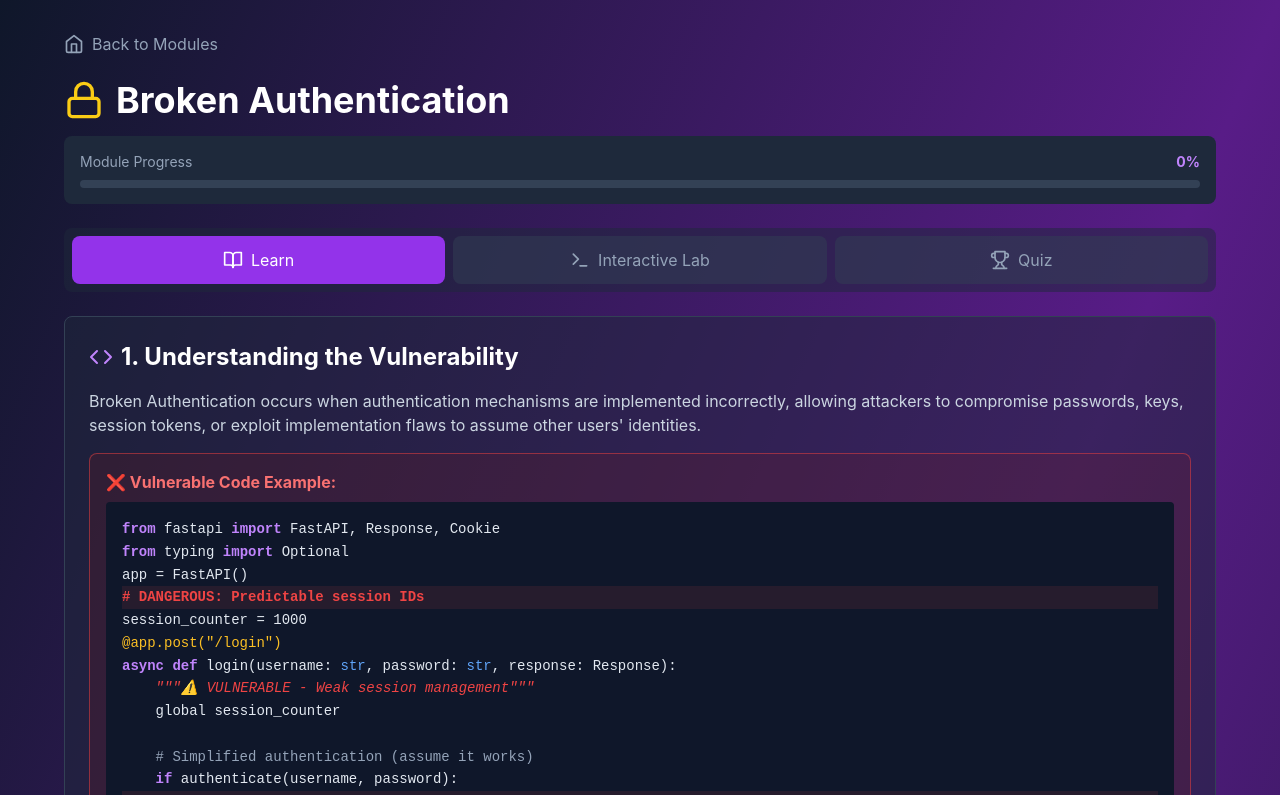
BrokenAuthModule session token lab › flags a short sequential session token as weak
The image size is (1280, 795).
Click the button "Interactive Lab": click(640, 260) [453,236,827,284]
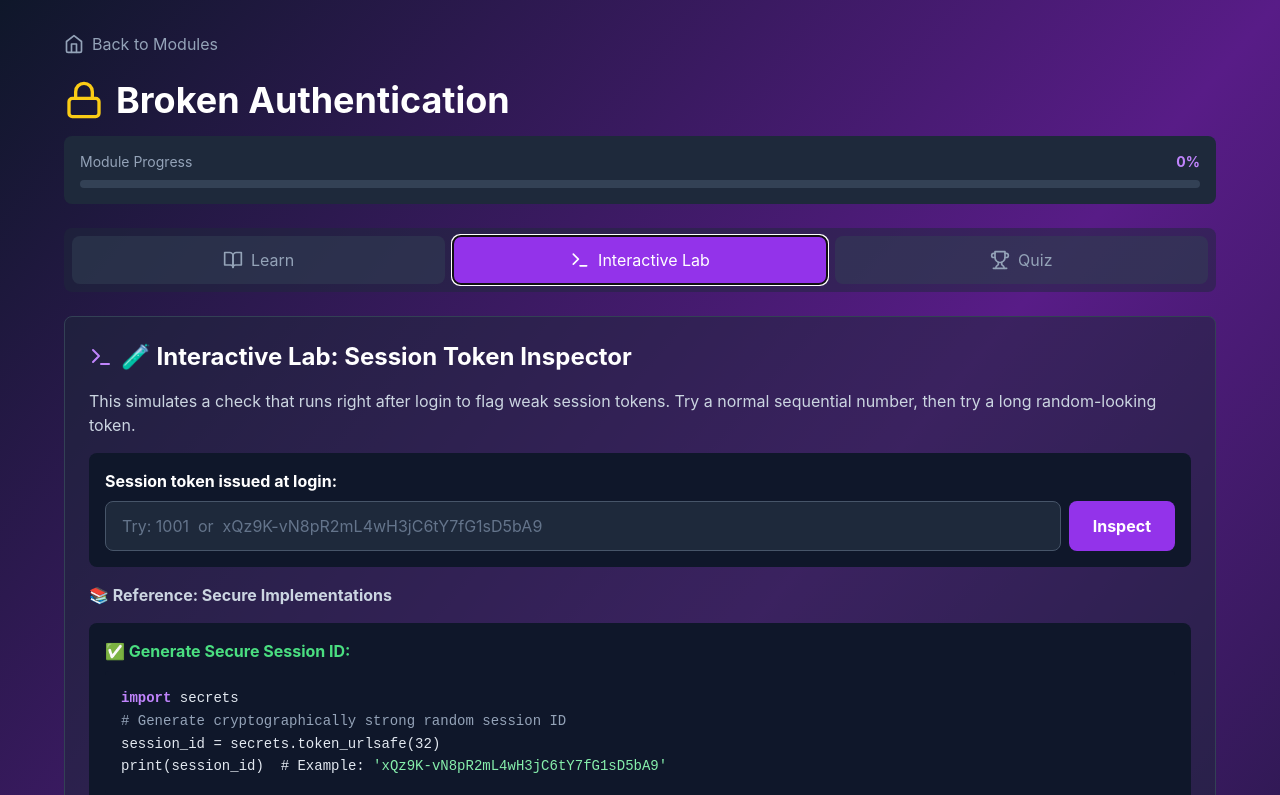
In the field with placeholder "Try: 1001 or xQz9K-vN8pR2mL4wH3jC6tY7fG1sD5bA9": (583, 526) [105,501,1061,551], type "1001"
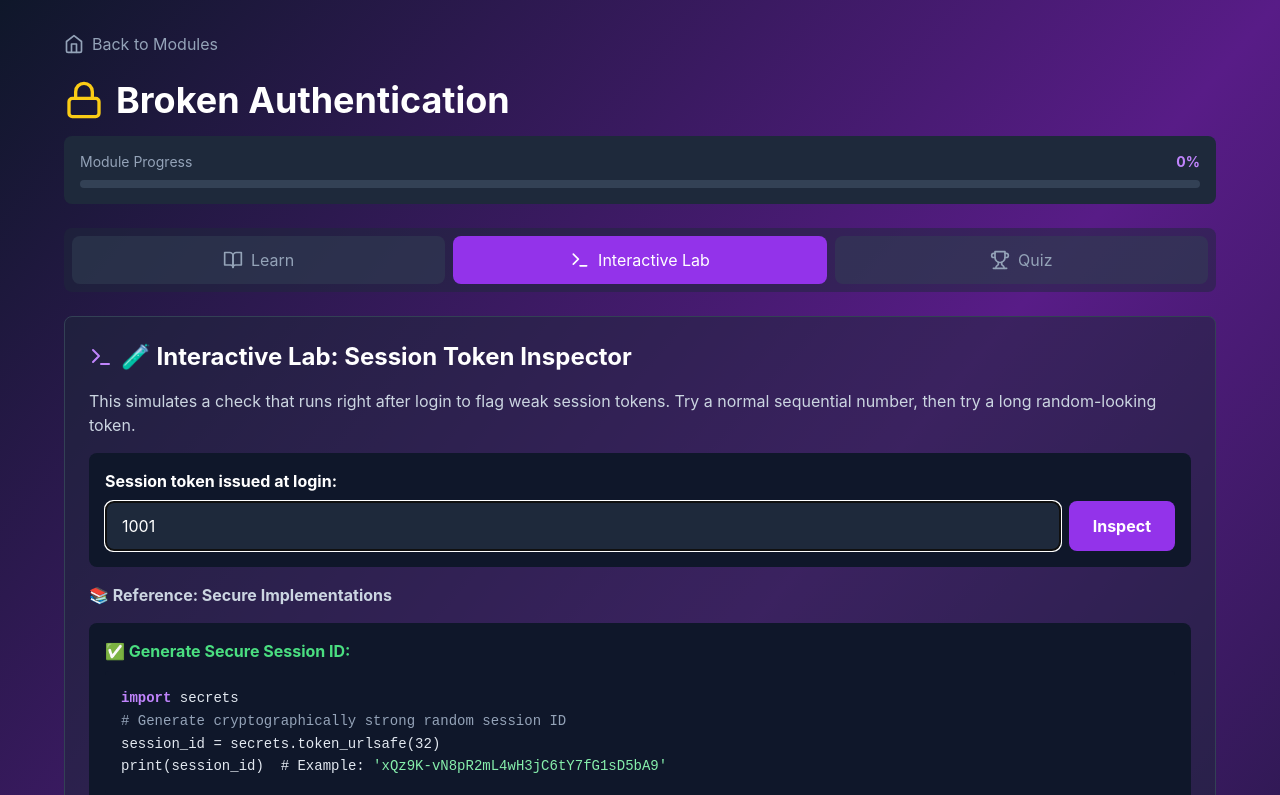
Click the button "Inspect": click(1122, 526) [1069,501,1175,551]
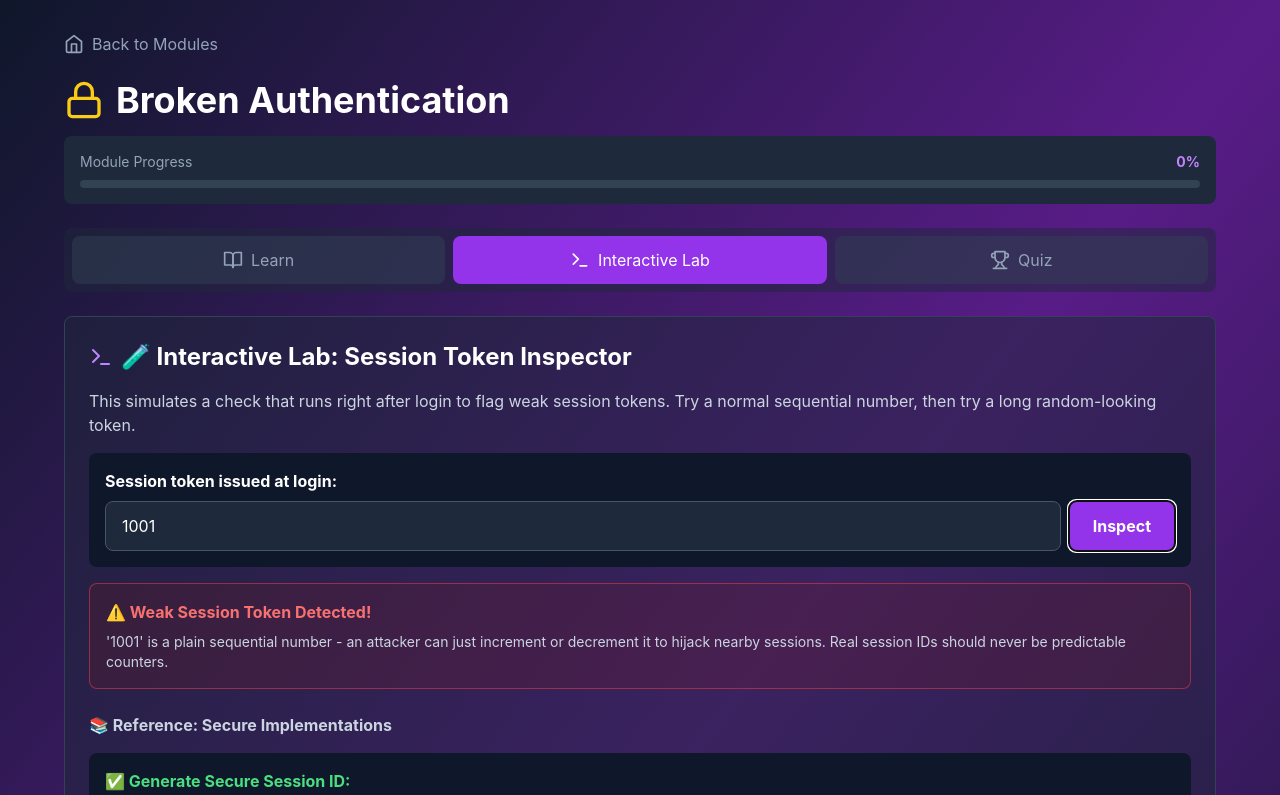
Result: the heading "⚠️ Weak Session Token Detected!" is shown at [106,602,371,622]
